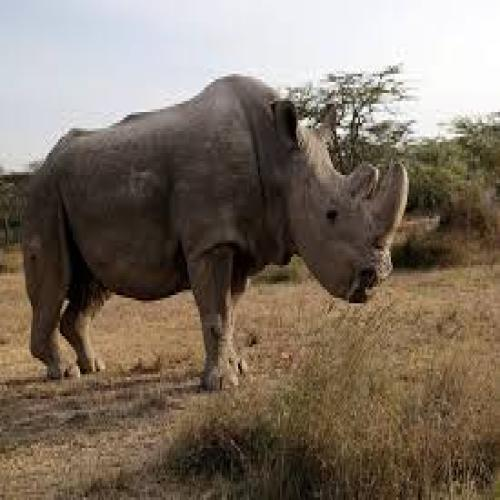rhino-endangered: (24, 77, 411, 390)
